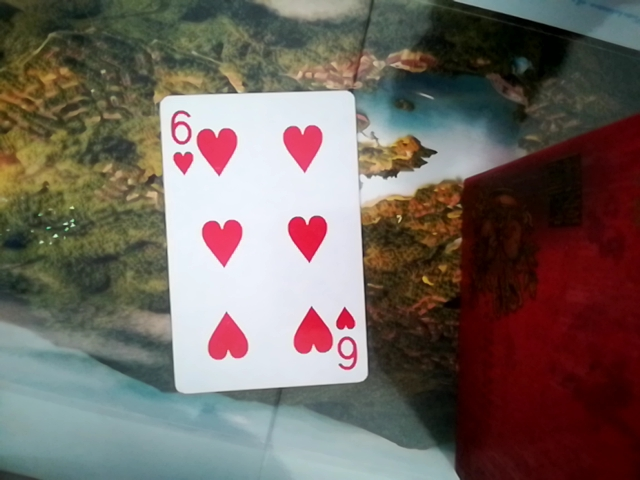hx 6: (155, 81, 365, 396)
